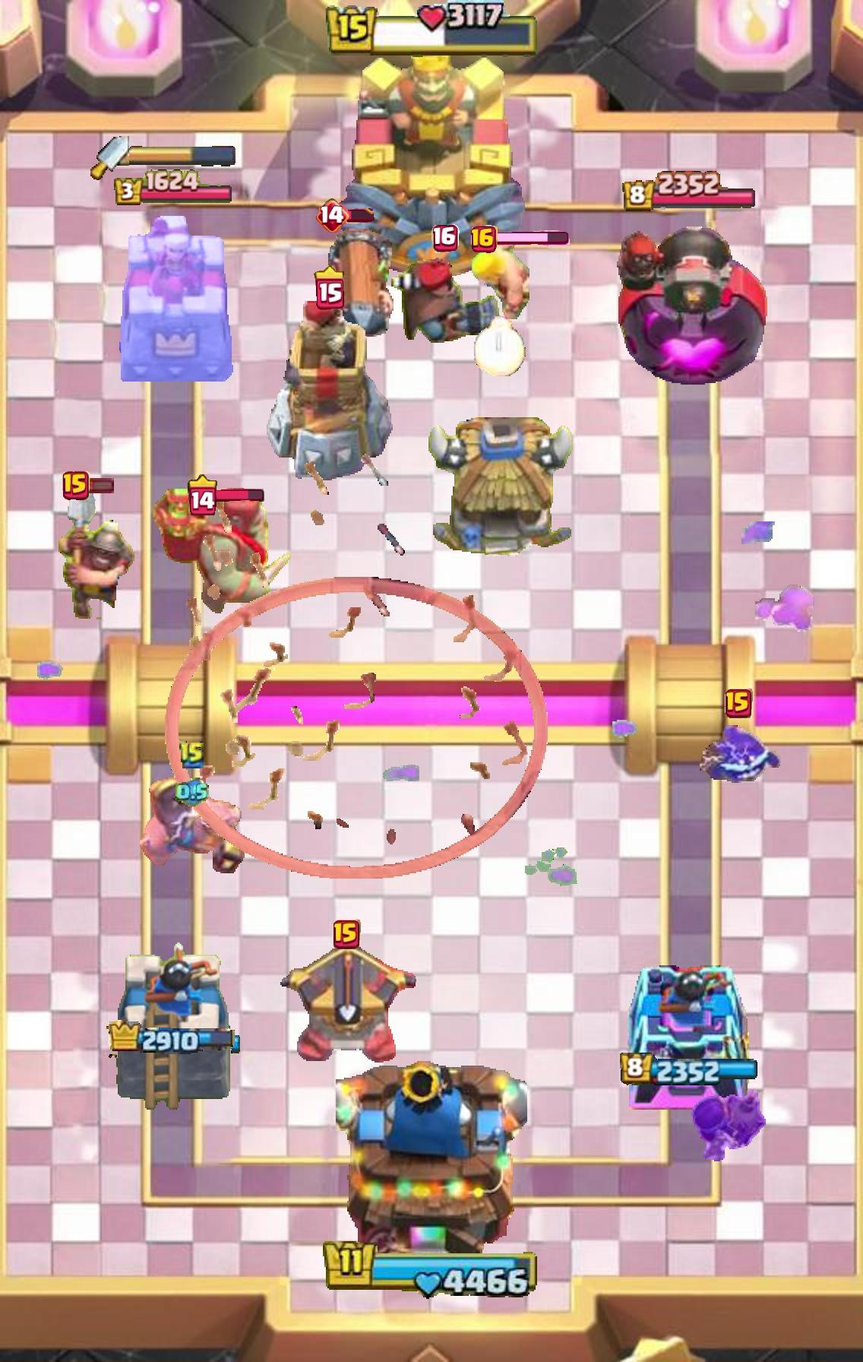bar: (175, 777, 209, 807)
